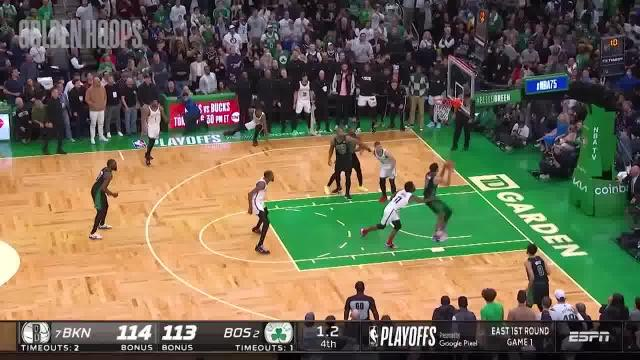ball-handler: (421, 156, 457, 244)
player: (245, 164, 278, 258), (86, 158, 122, 244), (380, 178, 418, 252), (324, 124, 360, 202), (222, 100, 273, 148), (519, 240, 553, 309), (138, 93, 168, 168), (372, 137, 399, 204), (346, 117, 367, 189)
